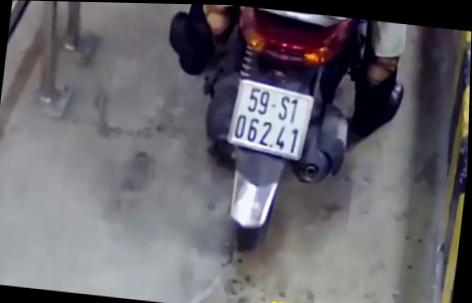LP: (225, 75, 317, 165)
